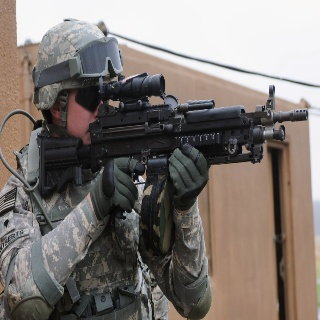rifle: (37, 71, 308, 196)
